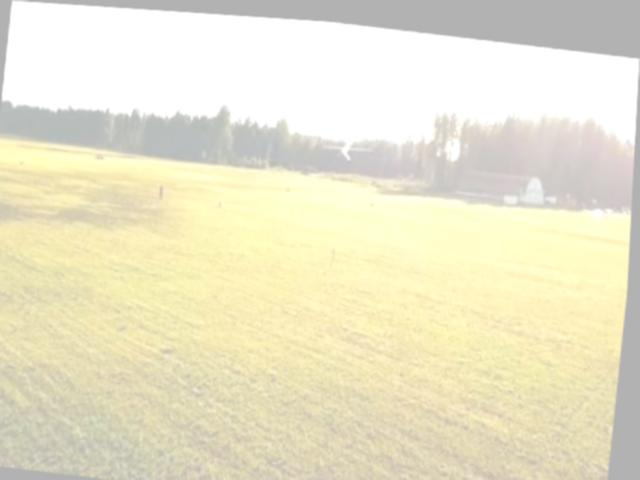iha: (324, 135, 373, 159)
